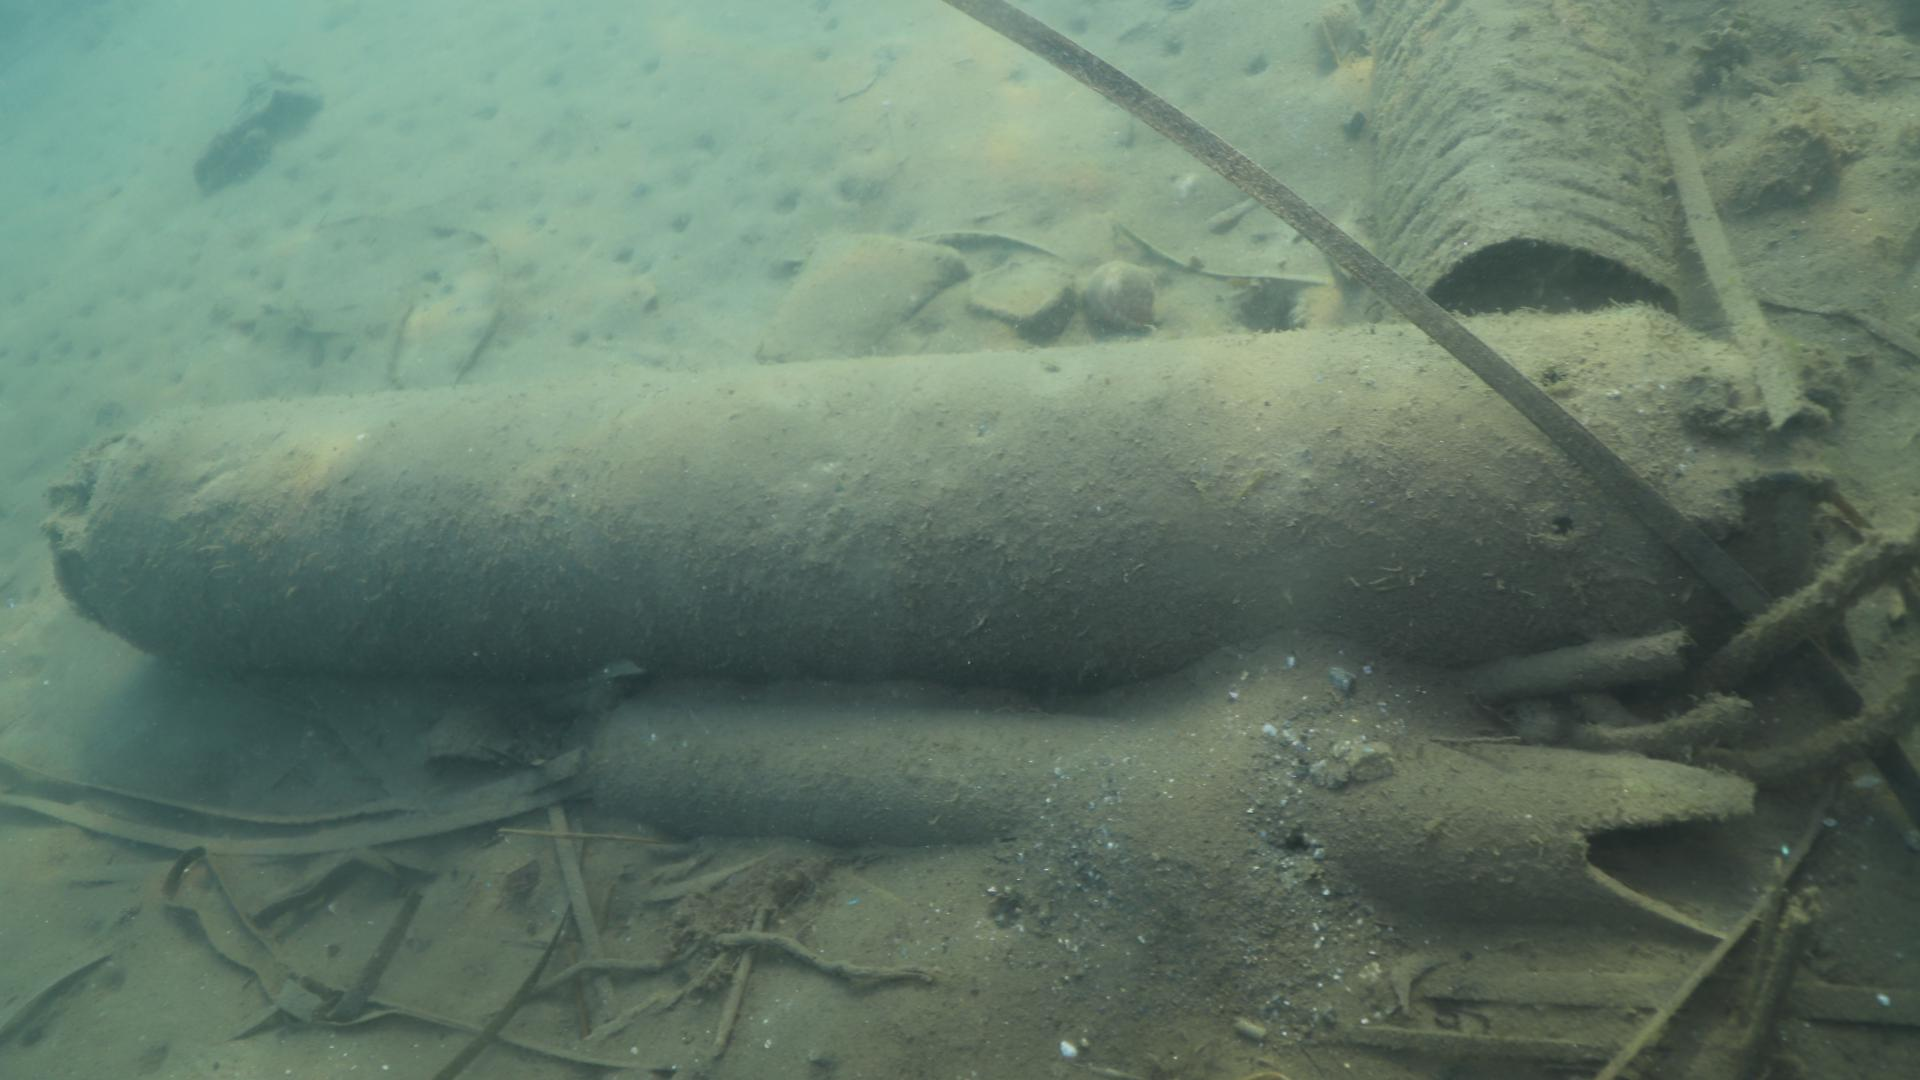eel fish trap: (44, 302, 1821, 678)
